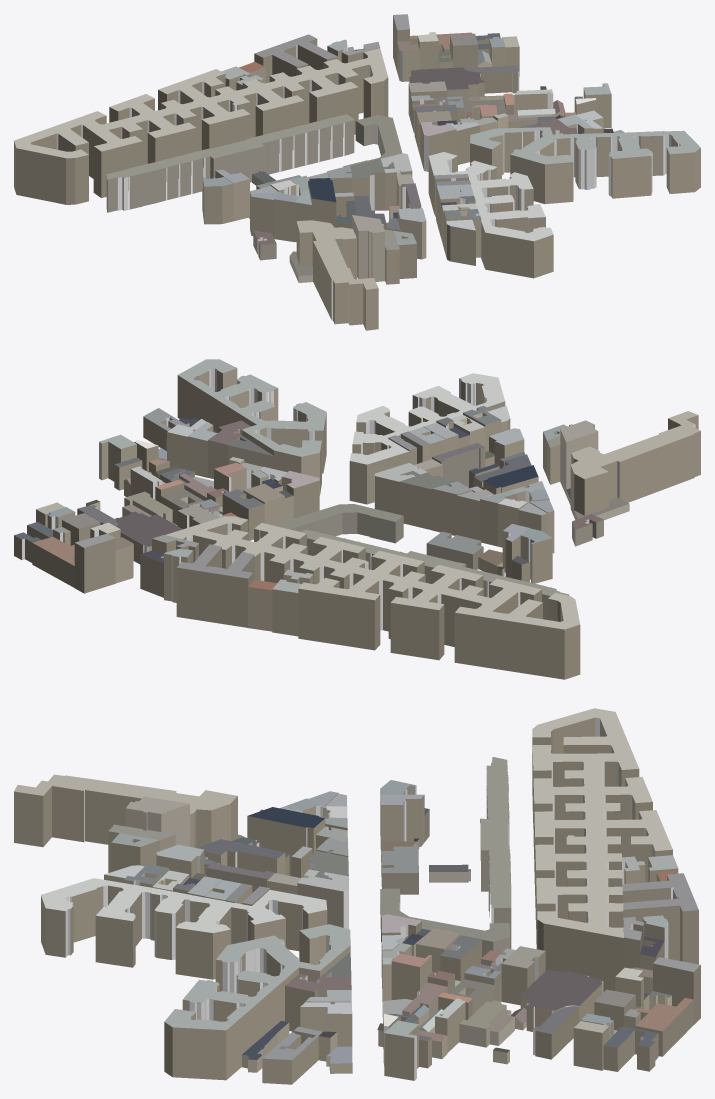
3 views of the same model, one above another, from view 1: azimuth 30°, elevation 25°; view 2: azimuth 150°, elevation 25°; view 3: azimuth 270°, elevation 25° (orthographic). The views are drawn at different scales.
Parts seen in each view (by area): view 1: tuile; view 2: tuile; view 3: tuile.
Boxes of the visible parts, box(x1,y1,x2,y2) form: tuile: box(14, 14, 700, 330); tuile: box(14, 359, 700, 679); tuile: box(14, 708, 700, 1084).
Bounding box in the file's own units: 336 × 34.11 × 302.
